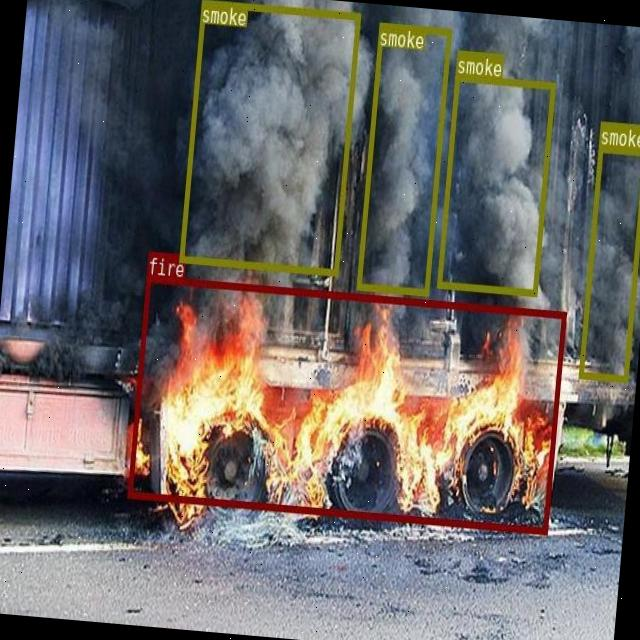fire: (126, 274, 565, 534)
smoke: (177, 0, 359, 275), (355, 21, 451, 294), (436, 73, 554, 295), (578, 144, 640, 380)
